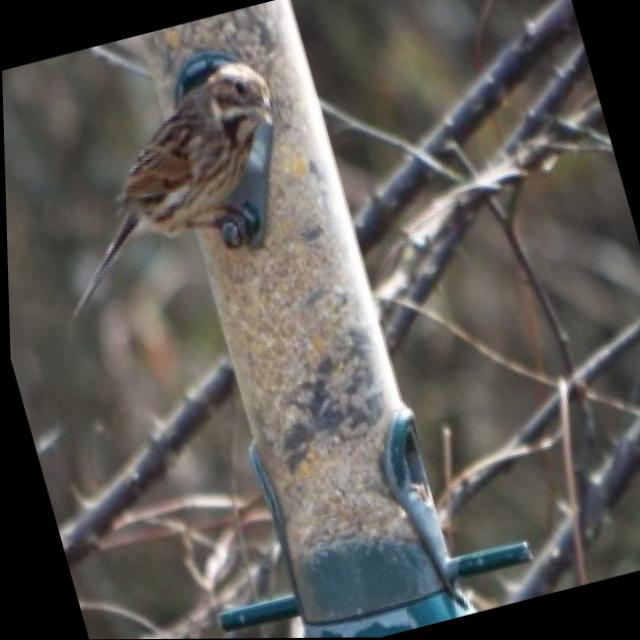sparrow: (13, 37, 322, 320)
